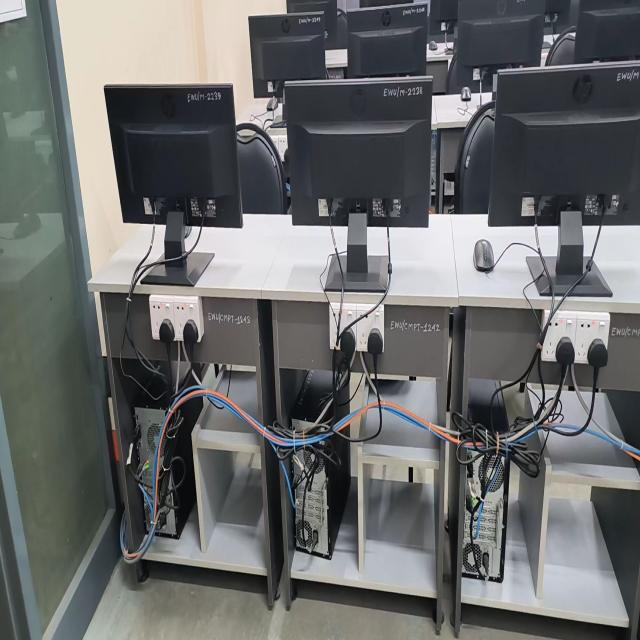Chair: (237, 122, 288, 213), (453, 101, 494, 213), (545, 26, 575, 66), (429, 0, 458, 40)
Cpu: (126, 408, 186, 538), (462, 454, 505, 580), (296, 463, 329, 555)
Monitor: (489, 61, 640, 226), (285, 76, 431, 226), (104, 85, 242, 226), (446, 0, 545, 94), (249, 12, 326, 97), (347, 3, 428, 77), (572, 0, 640, 63), (287, 0, 347, 49)
Mouse: (473, 240, 495, 271), (461, 87, 471, 100), (428, 40, 437, 50)
